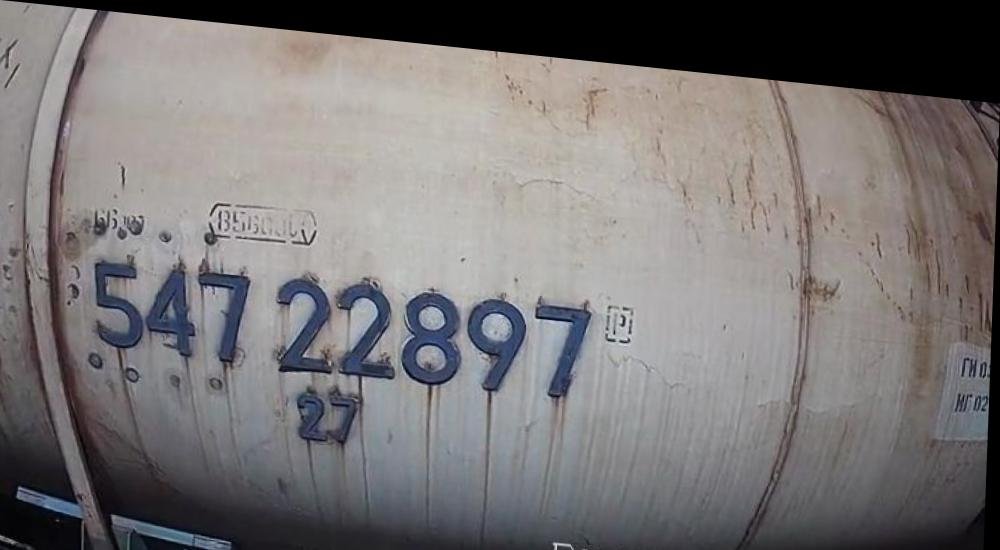Wagon-number: (90, 248, 597, 395)
